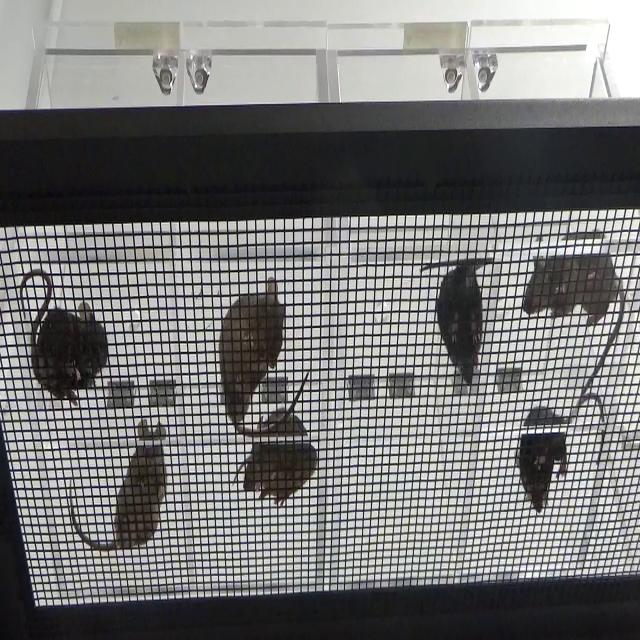scratch: (17, 266, 113, 418)
